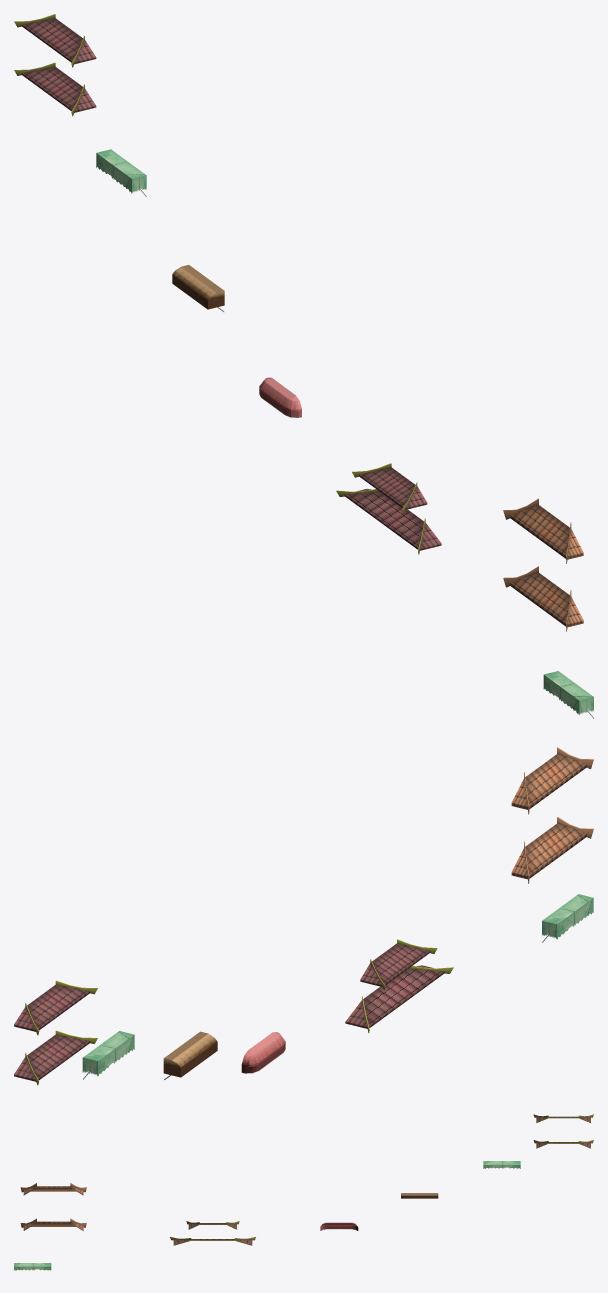
The model's file is chinawning03.obj.
The picture shows the model from 3 angles, top to bottom: view 1: azimuth 30°, elevation 25°; view 2: azimuth 150°, elevation 25°; view 3: azimuth 270°, elevation 25°; orthographic projection. The views are drawn at different scales.
Visible parts, largest first — view 1: chinawning03; view 2: chinawning03; view 3: chinawning03.
Boxes of the visible parts, x1=… form: chinawning03: x1=14, y1=14, x2=593, y2=718; chinawning03: x1=14, y1=747, x2=593, y2=1085; chinawning03: x1=14, y1=1114, x2=593, y2=1270.
Size of the model in its own units: 3.4 by 36.83 by 119.
Materials: 10 (10 with a texture image).
